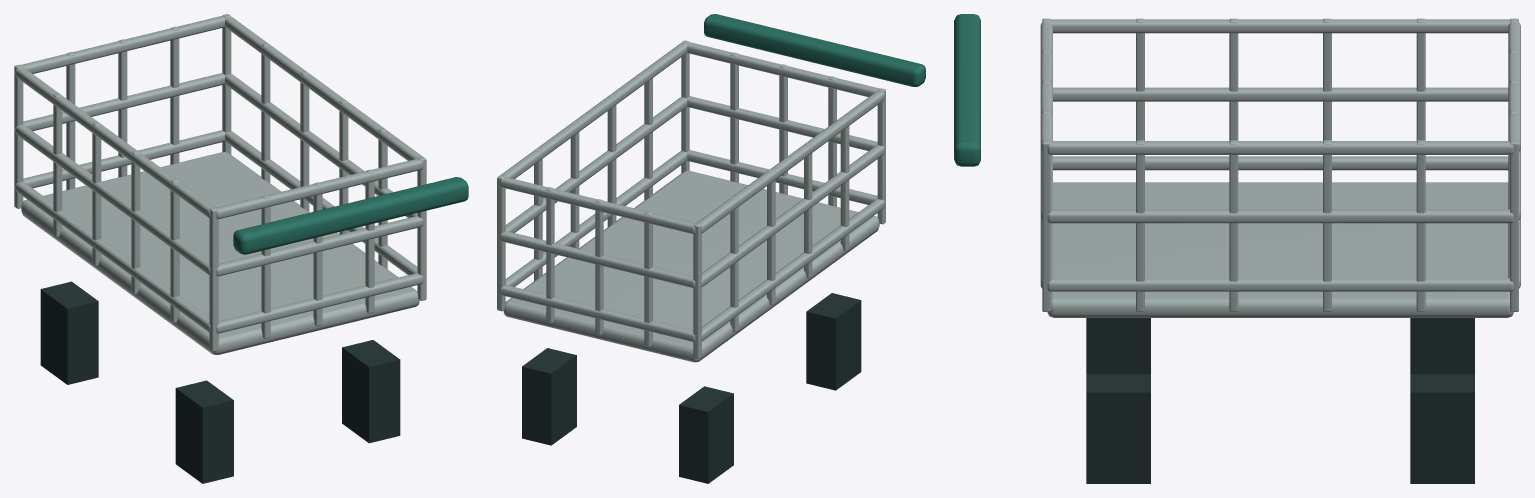
Rendered from ShoppingCart.fbx.
The picture shows the model from 3 angles, left to right: view 1: azimuth 30°, elevation 25°; view 2: azimuth 150°, elevation 25°; view 3: azimuth 270°, elevation 25°; orthographic projection. The views are drawn at different scales.
Parts seen in each view (by area): view 1: Shopping_basket_bottom, Shopping_handle, 购物车轮.001, 购物车轮, 购物车轮.002, Basket_wire.008, Basket_wire.009, Basket_wire, Basket_wire.004, Basket_wire.010, Basket_wire.002, Basket_wire.006 (+23 smaller); view 2: Shopping_basket_bottom, Shopping_handle, 购物车轮, 购物车轮.001, 购物车轮.003, Basket_wire.008, Basket_wire.009, Basket_wire.004, Basket_wire, Basket_wire.005, Basket_wire.011, Basket_wire.003 (+23 smaller); view 3: Shopping_basket_bottom, 购物车轮.002, 购物车轮.003, Basket_wire.005, Basket_wire.008, Basket_wire.004, Basket_wire.009, Basket_wire.001, Basket_wire, Shopping_handle, 购物车轮, 购物车轮.001 (+12 smaller).
Part boxes in pixels (bbox=[...]): Shopping_basket_bottom: bbox=[21, 152, 419, 354]; Shopping_handle: bbox=[233, 177, 468, 254]; 购物车轮.001: bbox=[40, 281, 98, 384]; 购物车轮: bbox=[175, 380, 233, 483]; 购物车轮.002: bbox=[342, 340, 400, 443]; Basket_wire.008: bbox=[15, 67, 214, 218]; Basket_wire.009: bbox=[225, 16, 422, 160]; Basket_wire: bbox=[15, 182, 210, 332]; Basket_wire.004: bbox=[15, 124, 210, 275]; Basket_wire.010: bbox=[216, 158, 423, 219]; Basket_wire.002: bbox=[216, 273, 423, 333]; Basket_wire.006: bbox=[216, 216, 423, 276]; Shopping_basket_bottom: bbox=[503, 171, 879, 362]; Shopping_handle: bbox=[704, 14, 925, 86]; 购物车轮: bbox=[806, 293, 861, 390]; 购物车轮.001: bbox=[679, 386, 733, 483]; 购物车轮.003: bbox=[522, 348, 576, 445]; Basket_wire.008: bbox=[697, 91, 884, 233]; Basket_wire.009: bbox=[500, 43, 687, 178]; Basket_wire.004: bbox=[701, 145, 884, 287]; Basket_wire: bbox=[701, 199, 884, 340]; Basket_wire.005: bbox=[505, 97, 687, 232]; Basket_wire.011: bbox=[500, 177, 695, 234]; Basket_wire.003: bbox=[500, 285, 695, 341]; Shopping_basket_bottom: bbox=[1047, 182, 1513, 317]; 购物车轮.002: bbox=[1086, 374, 1150, 483]; 购物车轮.003: bbox=[1410, 374, 1474, 483]; Basket_wire.005: bbox=[1047, 209, 1513, 223]; Basket_wire.008: bbox=[1051, 19, 1510, 33]; Basket_wire.004: bbox=[1053, 87, 1508, 101]; Basket_wire.009: bbox=[1047, 141, 1513, 154]; Basket_wire.001: bbox=[1047, 278, 1513, 291]; Basket_wire: bbox=[1053, 156, 1508, 170]; Shopping_handle: bbox=[954, 14, 980, 166]; 购物车轮: bbox=[1086, 318, 1150, 374]; 购物车轮.001: bbox=[1410, 318, 1474, 374].
Size of the model in its own units: 0.88 by 1.07 by 1.58.
